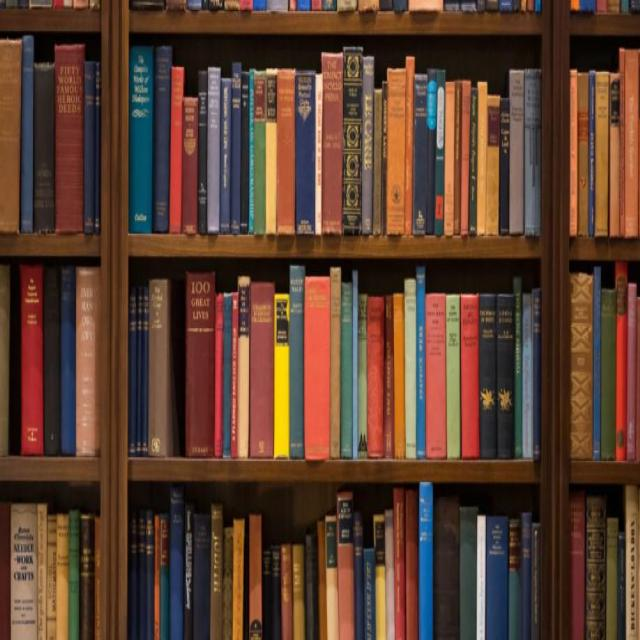book: (188, 276, 211, 462), (307, 284, 327, 458), (81, 272, 100, 455), (130, 59, 150, 224), (60, 50, 78, 227), (253, 285, 271, 457), (25, 272, 42, 450), (11, 508, 34, 639), (45, 273, 61, 450), (325, 63, 341, 235), (35, 75, 52, 231), (428, 299, 444, 455), (500, 299, 515, 455), (439, 508, 457, 638), (462, 298, 476, 455), (156, 52, 168, 234), (347, 53, 359, 230), (481, 297, 494, 455), (391, 75, 404, 231), (526, 80, 539, 231), (276, 298, 288, 454), (448, 299, 460, 455), (492, 523, 508, 640), (300, 82, 312, 234), (292, 272, 302, 452), (339, 503, 352, 638), (511, 75, 522, 231), (152, 286, 162, 456), (462, 518, 476, 638), (627, 51, 636, 236), (66, 273, 75, 456), (195, 519, 208, 640), (371, 303, 381, 454), (418, 275, 426, 461), (422, 492, 432, 638), (171, 500, 181, 638), (343, 287, 351, 455), (282, 82, 291, 231), (396, 296, 404, 457), (332, 274, 339, 454), (240, 283, 247, 457), (250, 520, 260, 640), (408, 283, 415, 454), (408, 496, 416, 637), (256, 78, 263, 234), (57, 519, 66, 640), (417, 83, 424, 235), (84, 522, 93, 640), (213, 517, 221, 640), (293, 548, 302, 640), (235, 523, 242, 640), (503, 100, 508, 234), (236, 72, 240, 227), (283, 550, 290, 638), (273, 550, 280, 636), (212, 80, 215, 228), (366, 297, 367, 302)
